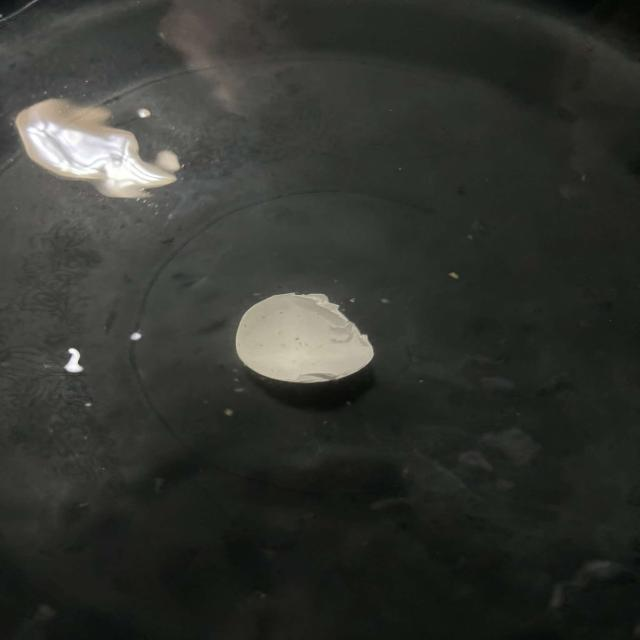Eggshell: (202, 279, 415, 404)
